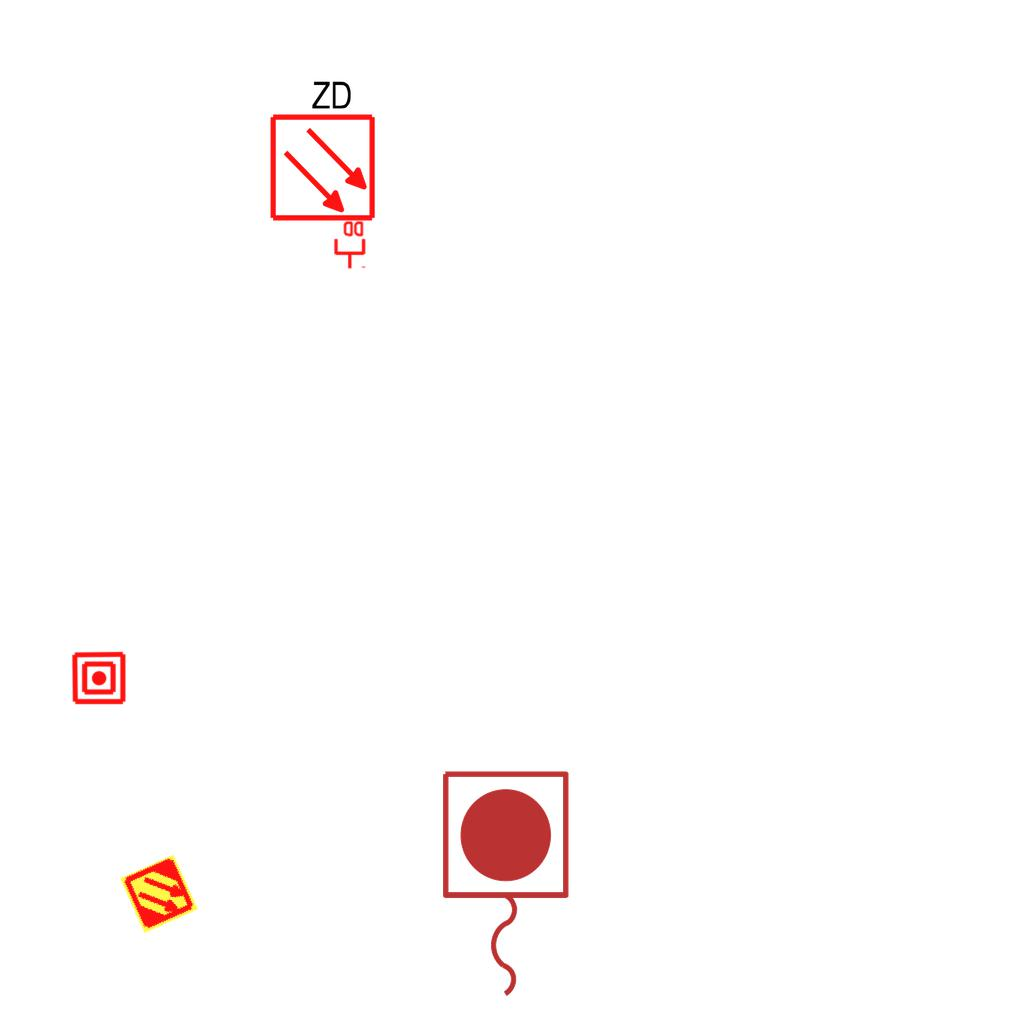ASR_Ansaugrauchmelder: (118, 853, 200, 935)
Datenanschluss_zweifach: (332, 219, 366, 270)
NAM-Nichtautomatischer_Melder: (71, 650, 127, 706)
ZD_Melder_in_Zwischendecke_mit_Revisionsoeffnung_mind_40_x_40_cm: (264, 74, 378, 223)
Zugtaster: (432, 763, 576, 1007)
